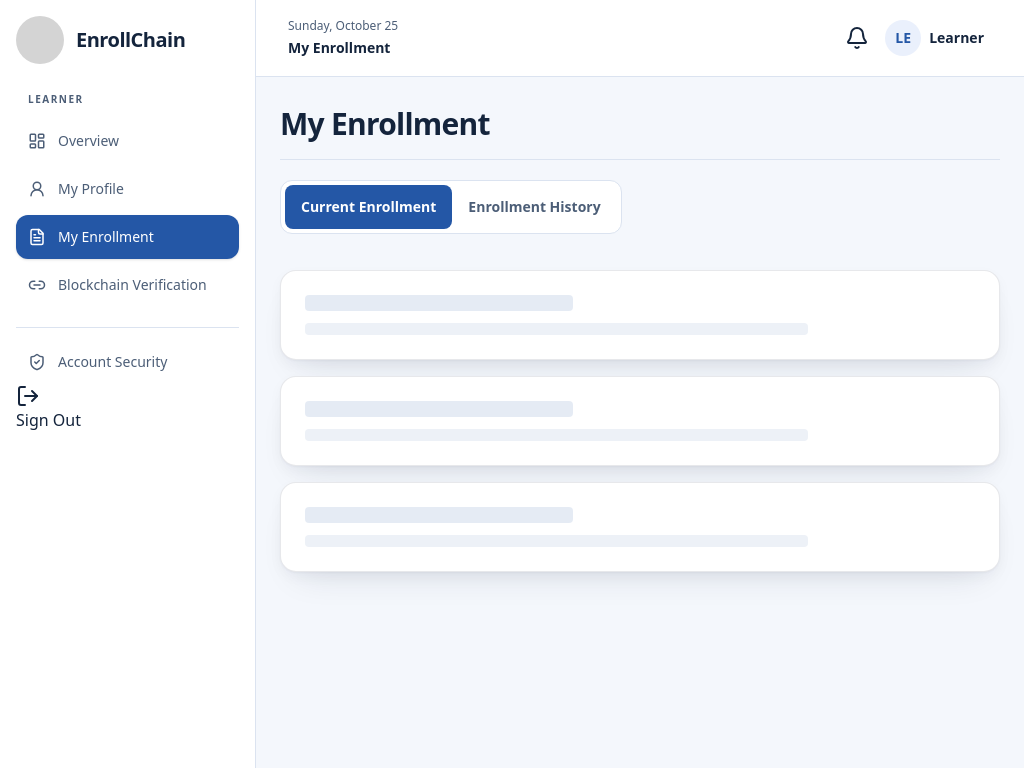
Test: Milestone 1 › shows applicant enrollment history without staff filters
The image size is (1024, 768).
What coordinates should you click on to do the following:
click the button "Enrollment History"
I would click on:
 (535, 206)
Its box is 452,184 -> 617,228.
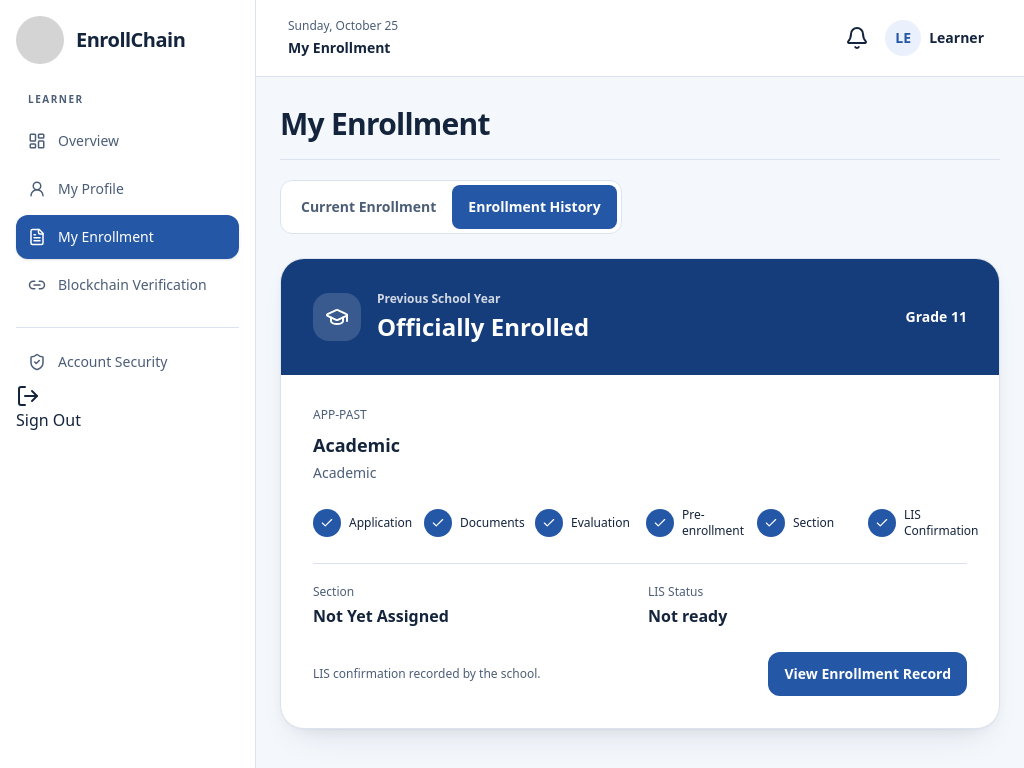
Check: the text "APP-PAST" is shown, box 313,406 -> 367,422
Check: the heading "Officially Enrolled" is shown, box 377,310 -> 589,342
